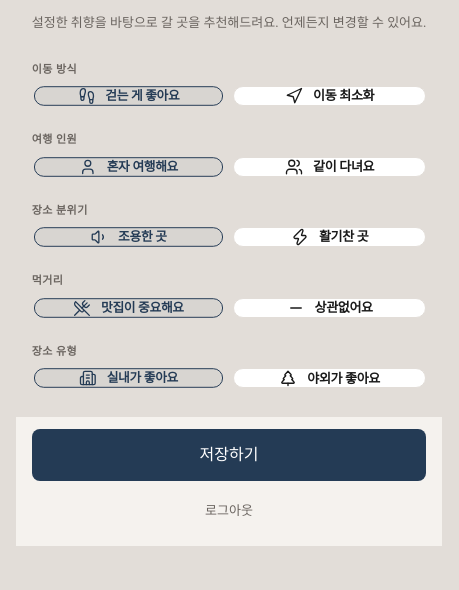
Test: SettingsView — 세션 만료 처리 › 일반 저장 실패(401 아님)에서는 리다이렉트하지 않고 인라인 에러만 보여준다
Click the button "저장하기".
click(229, 456)  # box [32,430,426,482]
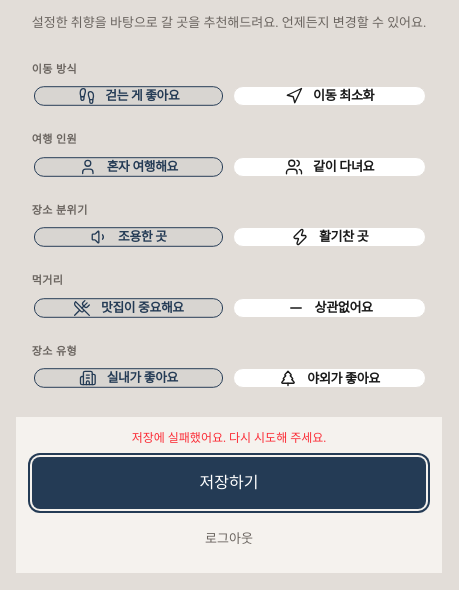
Expected: the text "저장에 실패했어요. 다시 시도해 주세요." is shown, [132,432,326,446]
